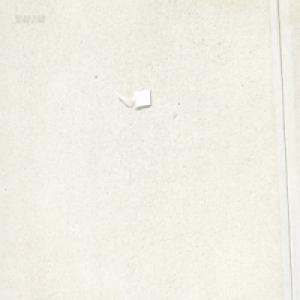LuggageTag: (114, 88, 151, 110)
